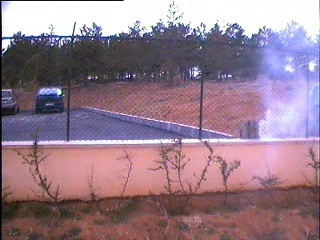smoke: (250, 23, 320, 138)
